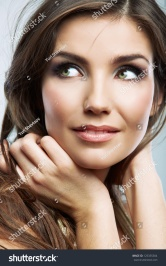Forehead: (44, 10, 155, 61)
